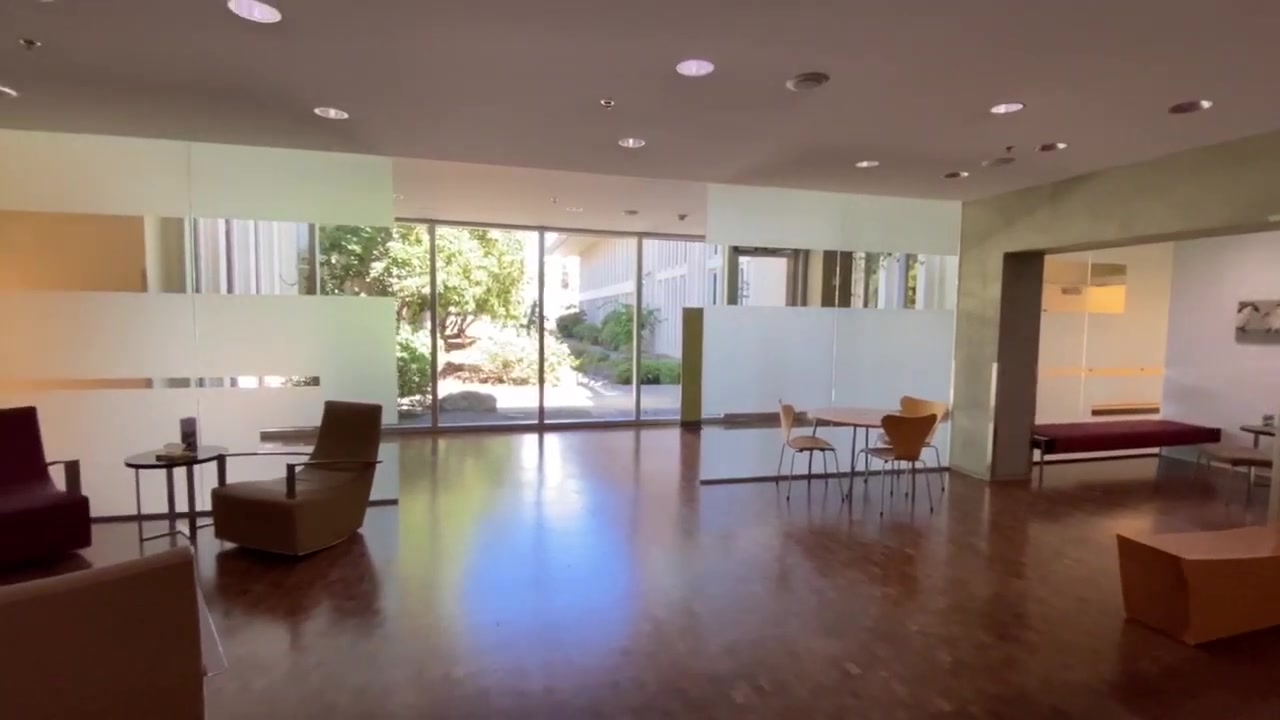chair: (1116, 517, 1280, 643), (848, 414, 938, 521), (863, 392, 948, 499), (771, 397, 844, 505), (1192, 433, 1278, 503)
sofa: (1, 546, 210, 720), (210, 398, 383, 554), (1, 405, 92, 567), (1029, 420, 1221, 489)
table: (120, 440, 233, 548), (805, 398, 905, 503)
